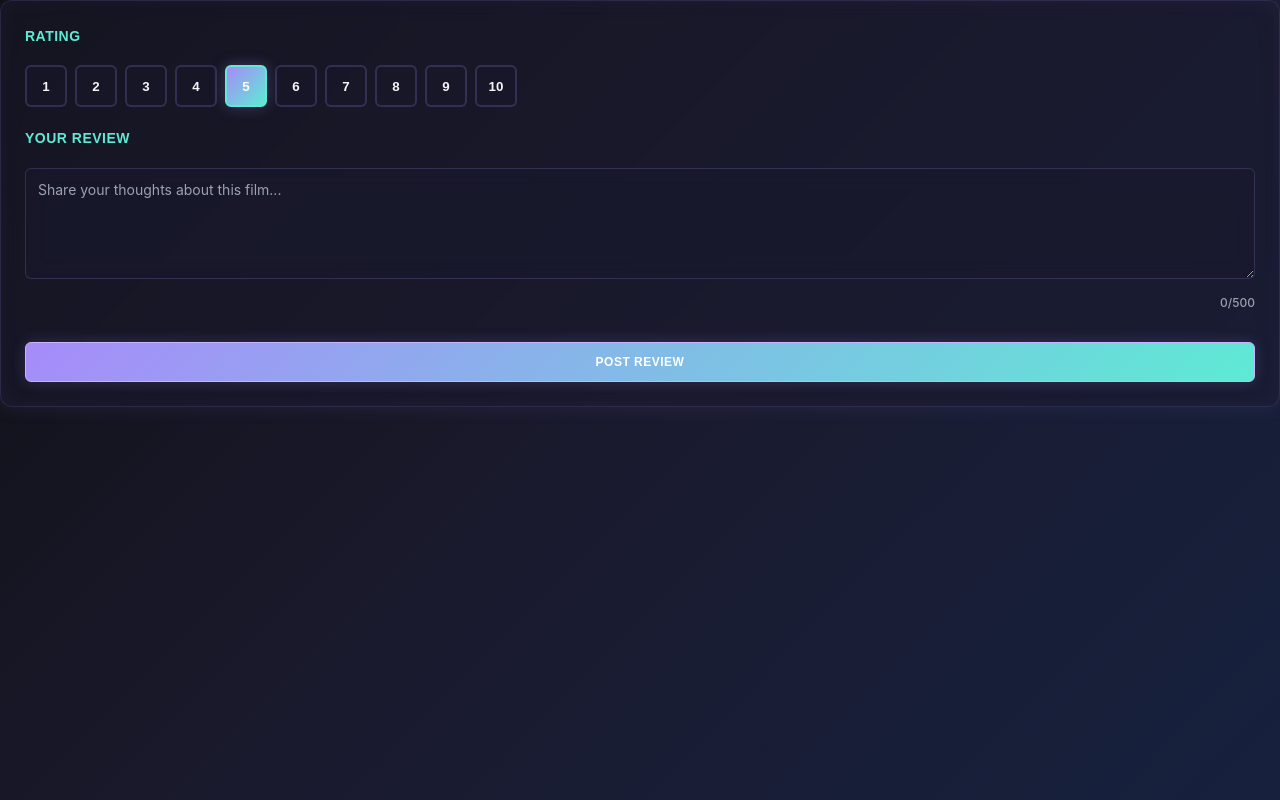
Test: ReviewForm Component › displays character count
expect the text "0/500" is shown: met, box top-left (1220, 295), bottom-right (1255, 310)
Type "Test comment" into the text box with placeholder "Share your thoughts about this film..." at (640, 223), box top-left (25, 168), bottom-right (1255, 279)
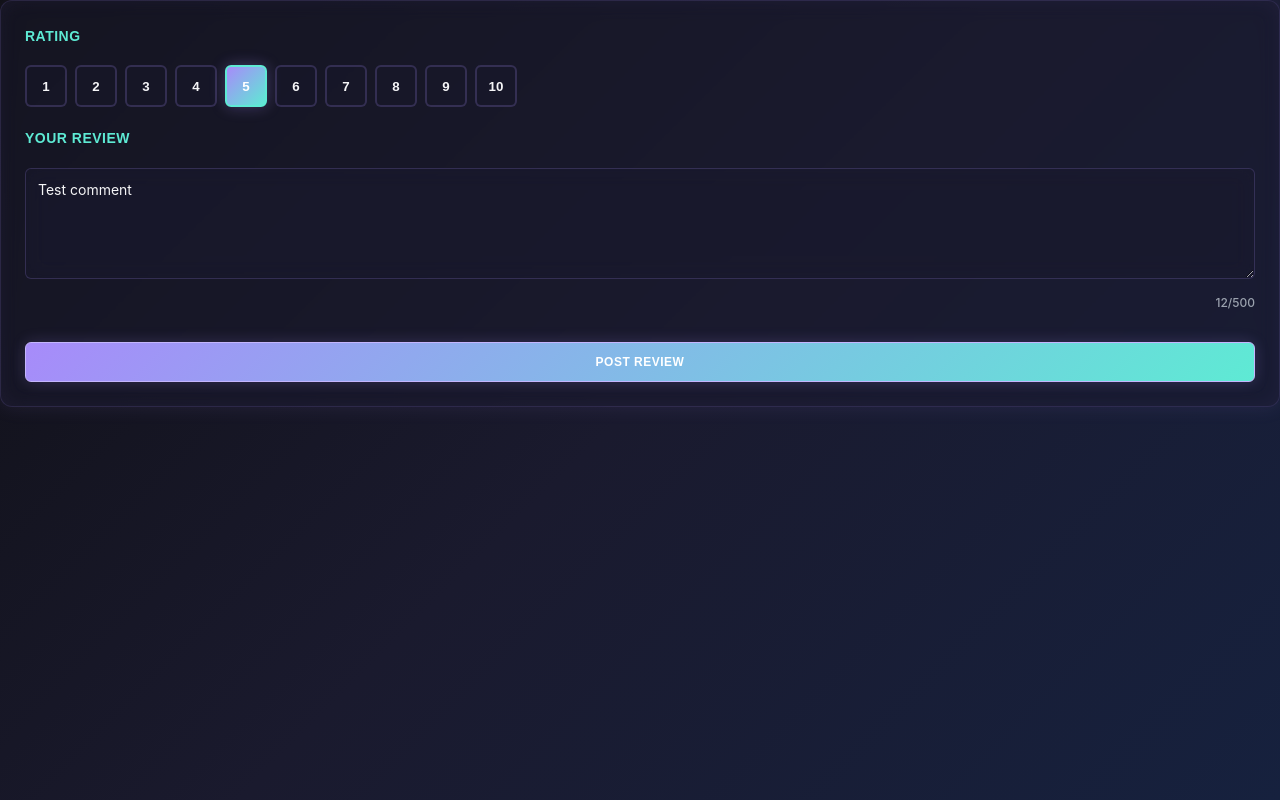
expect the text "12/500" is shown: met, box top-left (1216, 295), bottom-right (1255, 310)
